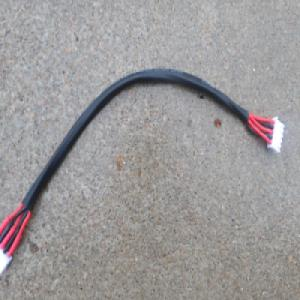Wire: (0, 69, 284, 281)
